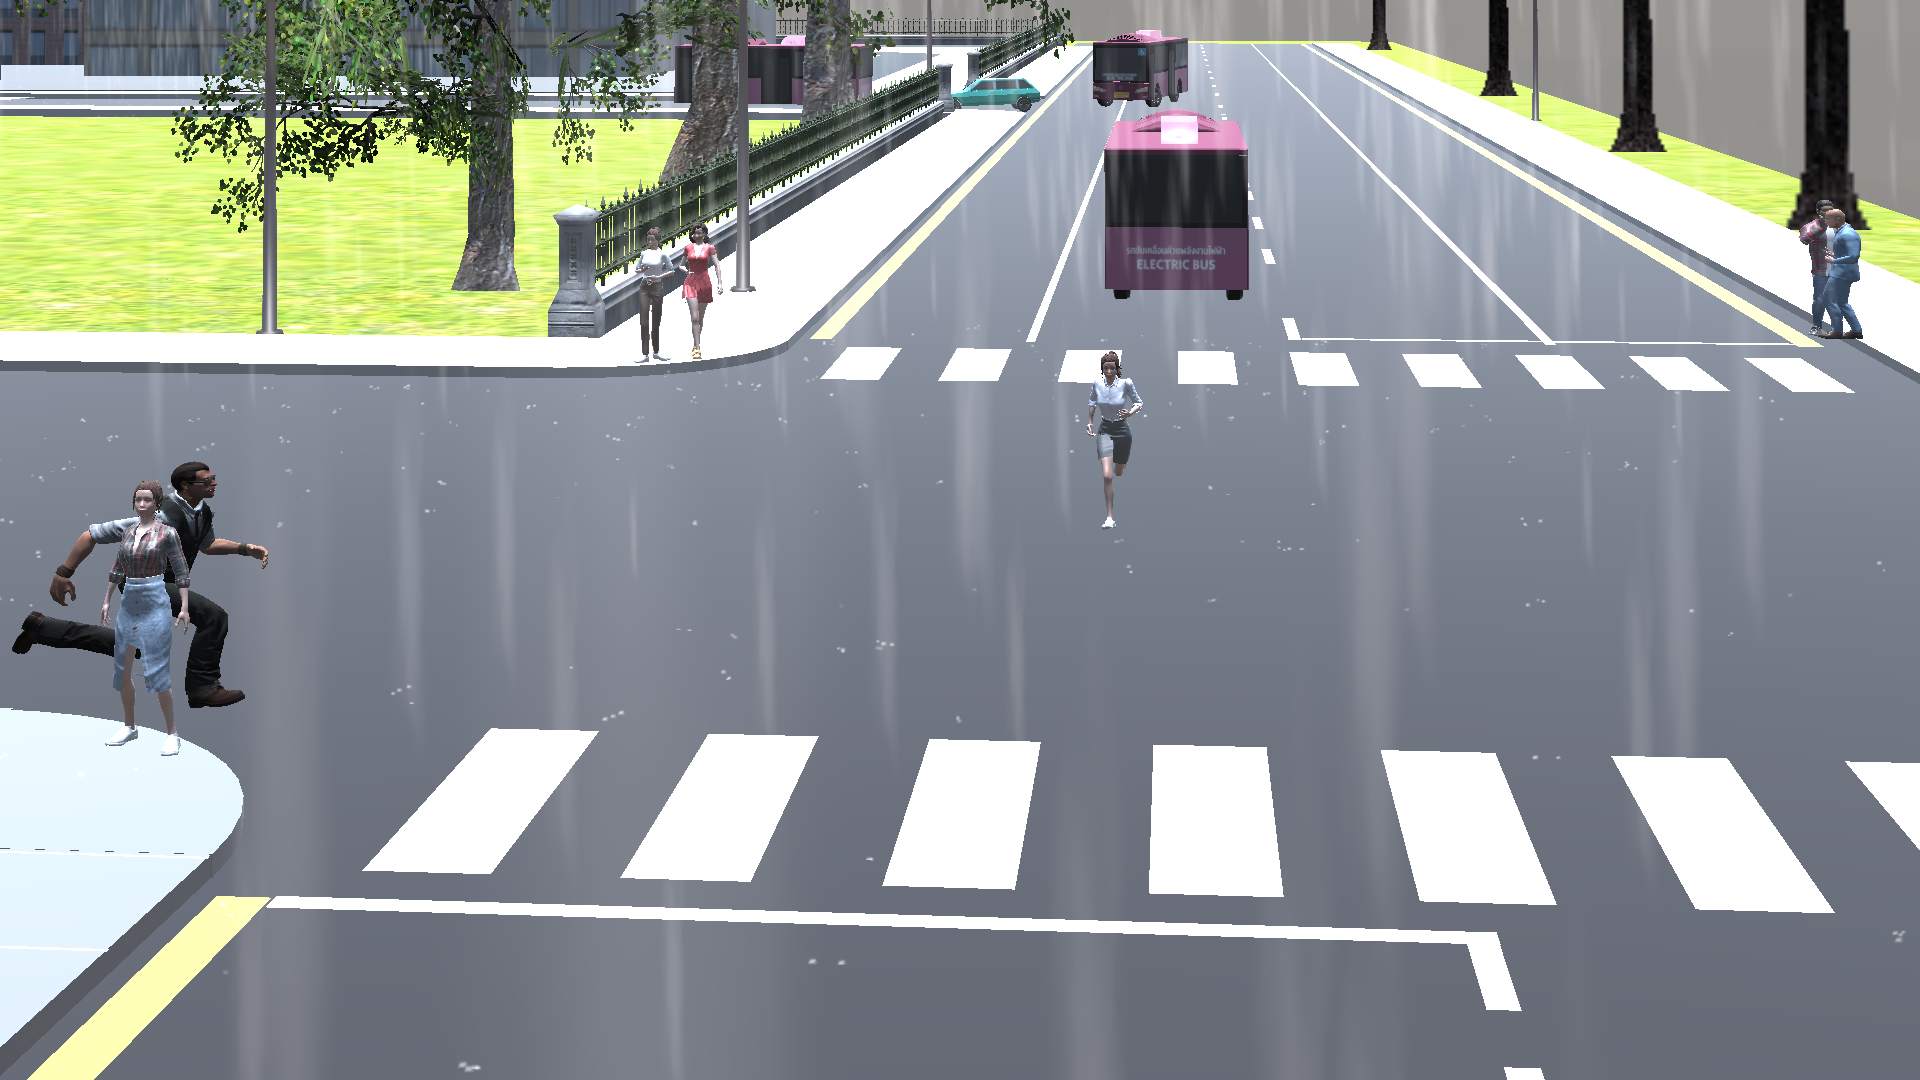pedestrian: (163, 463, 306, 707), (103, 478, 193, 759), (1059, 344, 1158, 540), (682, 217, 750, 367), (626, 226, 681, 368), (1821, 211, 1878, 339), (1795, 192, 1827, 330)
